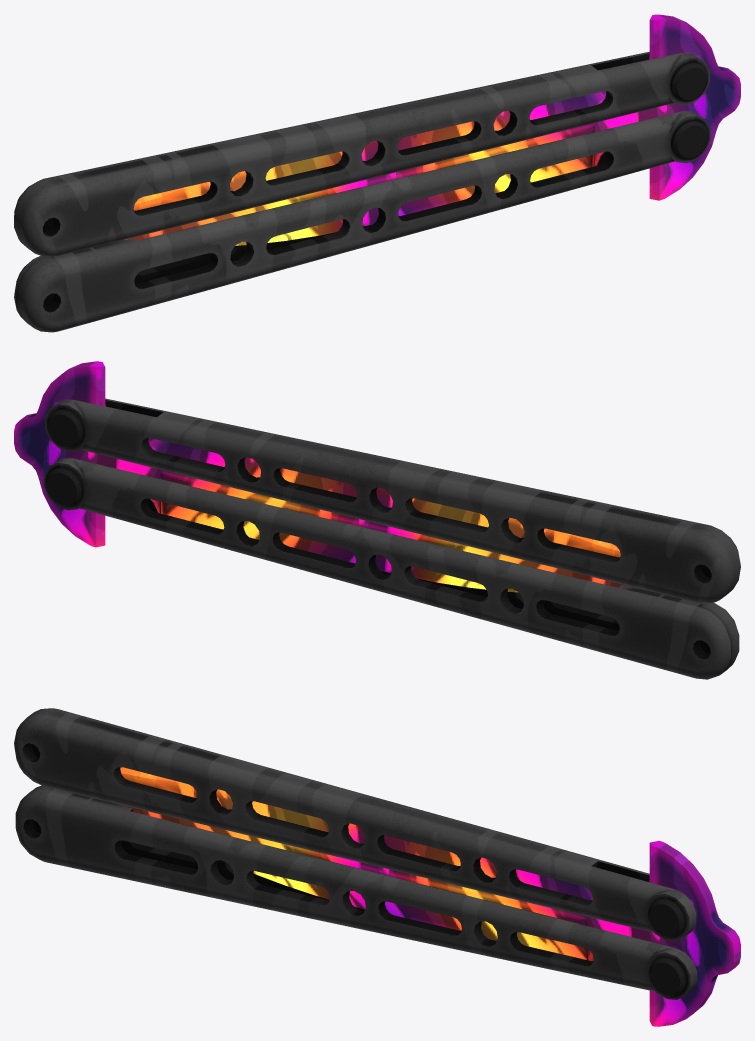
The model's file is melee_30.gltf.
3 renders of one model, top to bottom at view 1: azimuth 30°, elevation 25°; view 2: azimuth 150°, elevation 25°; view 3: azimuth 330°, elevation 25°, orthographic.
Visible parts, largest first — view 1: Hilt_1, Hilt_2, Blade; view 2: Hilt_1, Hilt_2, Blade; view 3: Hilt_1, Hilt_2, Blade.
Part boxes in pixels (left/top/right/bottom): Hilt_1: left=14, top=51, right=710, bottom=257; Hilt_2: left=14, top=111, right=710, bottom=332; Blade: left=124, top=14, right=740, bottom=245; Hilt_1: left=44, top=398, right=740, bottom=603; Hilt_2: left=43, top=458, right=739, bottom=679; Blade: left=14, top=361, right=630, bottom=592; Hilt_1: left=14, top=708, right=696, bottom=941; Hilt_2: left=15, top=785, right=697, bottom=999; Blade: left=120, top=767, right=740, bottom=1026.
Bounding box in the file's own units: 2.01 × 0.4827 × 0.1354.
Materials: 1 (1 with a texture image).
